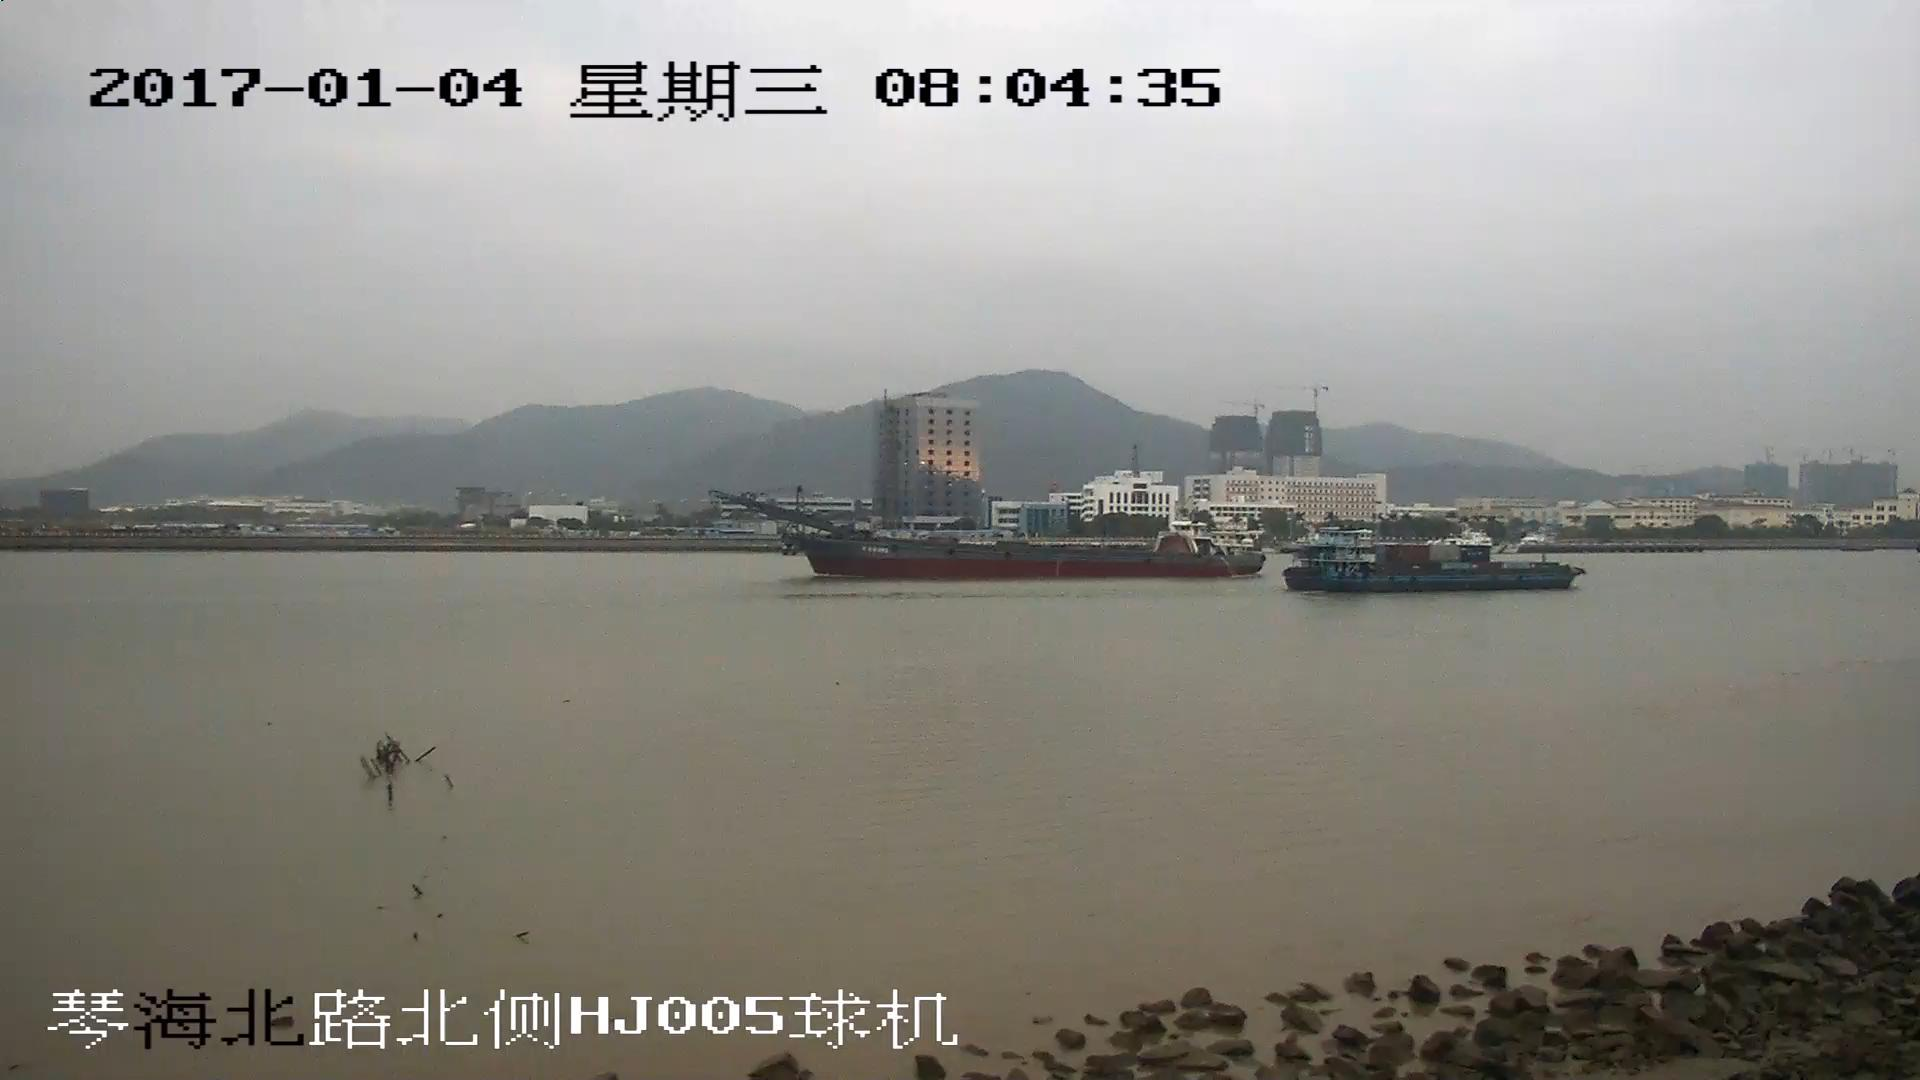Ship: (715, 491, 1266, 578), (1284, 527, 1581, 595)
